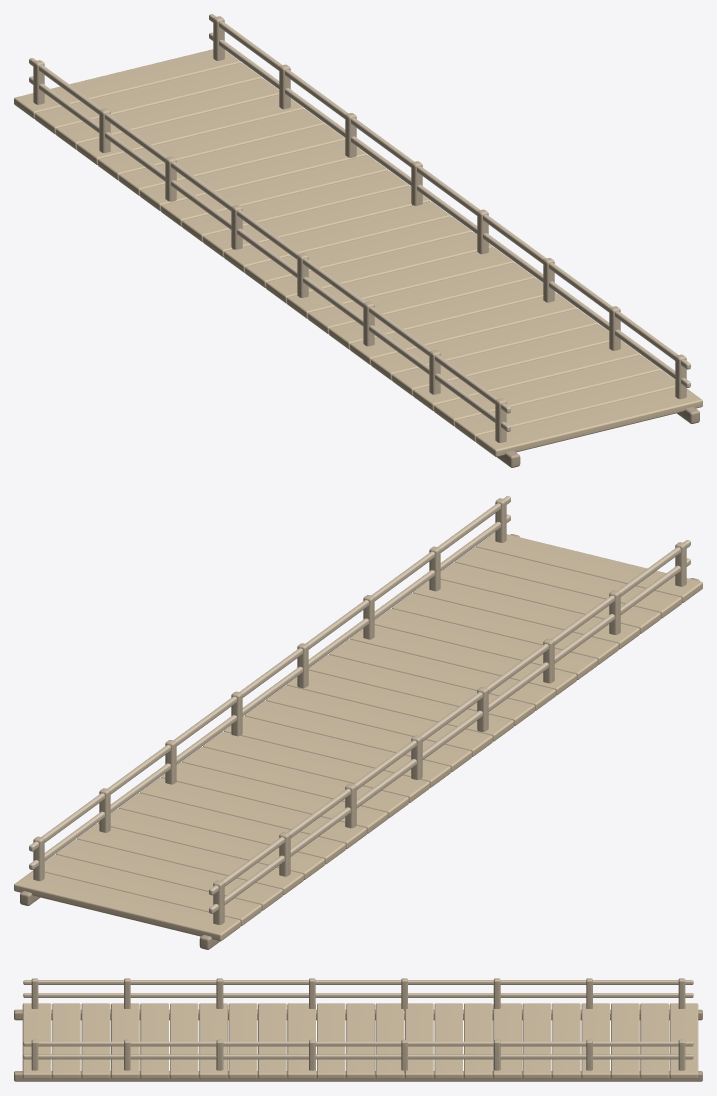
The model's file is bridge.glb.
3 views of the same model, one above another, from view 1: azimuth 30°, elevation 25°; view 2: azimuth 150°, elevation 25°; view 3: azimuth 270°, elevation 25° (orthographic). The views are drawn at different scales.
Visible parts, largest first — view 1: bridge_deck, bridge_deck.015, bridge_deck.018, bridge_deck.001, bridge_deck.012, bridge_deck.021, bridge_deck.002, bridge_deck.005, bridge_deck.009, bridge_deck.008, bridge_deck.011, bridge_deck.017 (+15 smaller); view 2: bridge_deck.022, bridge_deck.010, bridge_deck.007, bridge_deck.013, bridge_deck.021, bridge_deck.004, bridge_deck.001, bridge_deck.020, bridge_deck.016, bridge_deck.017, bridge_deck.014, bridge_deck.008 (+15 smaller); view 3: bridge_rail.002, bridge_rail.003, bridge_rail, bridge_rail.001, bridge_underside_beam.001, bridge_deck.002, bridge_deck.007, bridge_deck.017, bridge_deck.008, bridge_deck.011, bridge_deck.018, bridge_deck.001 (+33 smaller).
Boxes of the visible parts, x1,y1,x2,y2 form: bridge_deck: [476, 387, 702, 456]; bridge_deck.015: [161, 155, 387, 226]; bridge_deck.018: [98, 109, 324, 180]; bridge_deck.001: [455, 370, 675, 441]; bridge_deck.012: [224, 201, 450, 272]; bridge_deck.021: [35, 63, 261, 134]; bridge_deck.002: [434, 355, 660, 426]; bridge_deck.005: [371, 309, 597, 380]; bridge_deck.009: [287, 247, 513, 318]; bridge_deck.008: [308, 262, 534, 333]; bridge_deck.011: [245, 216, 471, 287]; bridge_deck.017: [119, 124, 345, 195]; bridge_deck.022: [14, 870, 240, 941]; bridge_deck.010: [266, 685, 492, 756]; bridge_deck.007: [329, 639, 555, 710]; bridge_deck.013: [203, 731, 429, 802]; bridge_deck.021: [44, 854, 261, 925]; bridge_deck.004: [392, 593, 618, 664]; bridge_deck.001: [455, 547, 681, 618]; bridge_deck.020: [56, 839, 282, 910]; bridge_deck.016: [140, 777, 366, 848]; bridge_deck.017: [119, 793, 345, 864]; bridge_deck.014: [182, 747, 408, 818]; bridge_deck.008: [308, 654, 534, 725]; bridge_rail.002: [23, 1054, 693, 1059]; bridge_rail.003: [23, 1041, 693, 1046]; bridge_rail: [23, 993, 693, 997]; bridge_rail.001: [23, 980, 693, 984]; bridge_underside_beam.001: [14, 1071, 702, 1081]; bridge_deck.002: [81, 1003, 110, 1078]; bridge_deck.007: [228, 1003, 257, 1078]; bridge_deck.017: [522, 1003, 551, 1078]; bridge_deck.008: [258, 1003, 286, 1078]; bridge_deck.011: [346, 1003, 374, 1078]; bridge_deck.018: [552, 1003, 580, 1078]; bridge_deck.001: [52, 1003, 80, 1078].
Bounding box in the file's own units: 400 × 105 × 1640.
